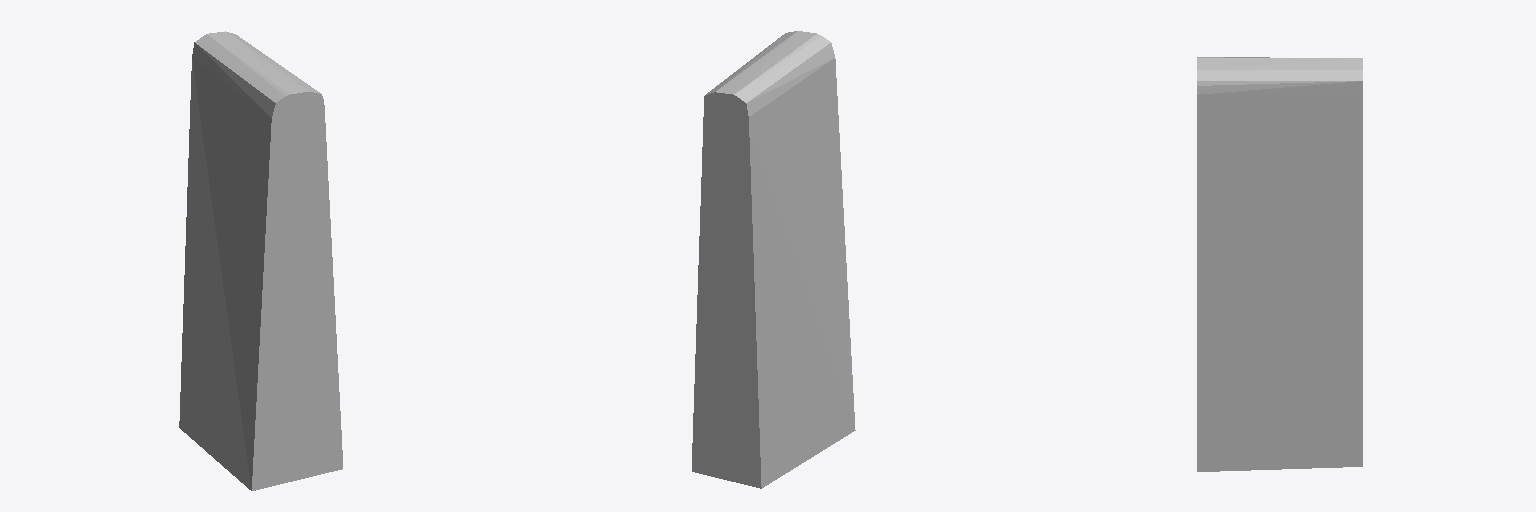
The model's file is ShipScene_collision_41.obj.
3 renders of one model, left to right at view 1: azimuth 30°, elevation 25°; view 2: azimuth 150°, elevation 25°; view 3: azimuth 270°, elevation 25°, orthographic.
Size of the model in its own units: 24.17 by 97.48 by 37.91.